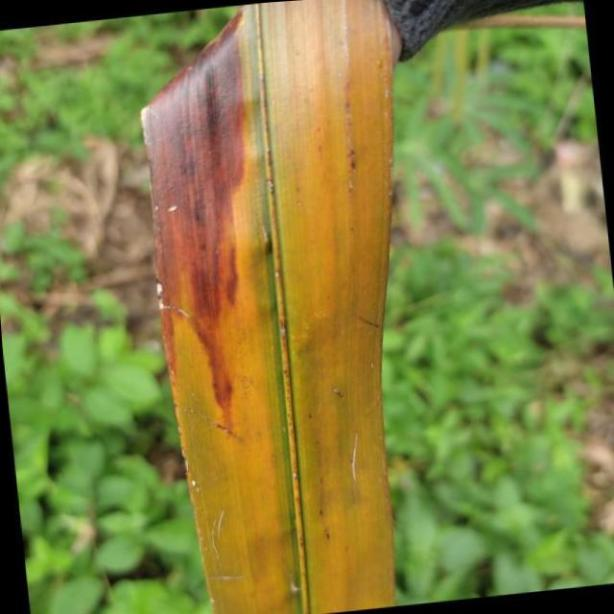Megnesium: (138, 0, 398, 614)
